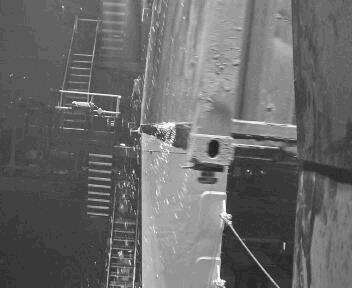twist_lock_1: (187, 155, 231, 194)
